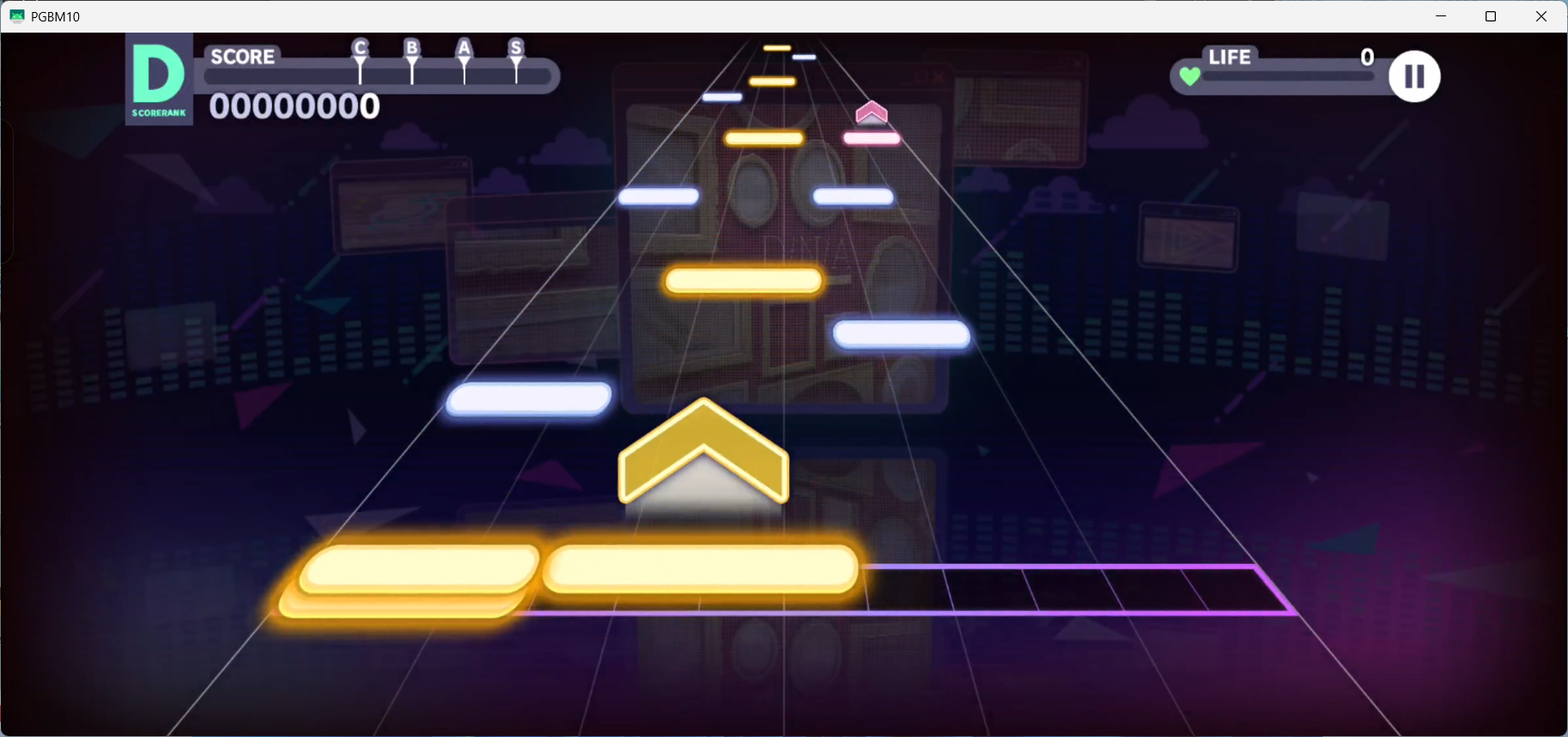flick: (619, 397, 789, 529), (855, 100, 888, 127)
tap: (543, 543, 860, 595), (298, 545, 539, 596), (447, 383, 614, 418), (831, 320, 970, 351), (665, 269, 824, 295), (617, 186, 699, 206), (814, 188, 894, 206), (726, 132, 802, 145), (843, 132, 900, 145), (750, 76, 796, 86), (702, 94, 742, 101), (763, 45, 791, 51), (792, 54, 817, 59)
